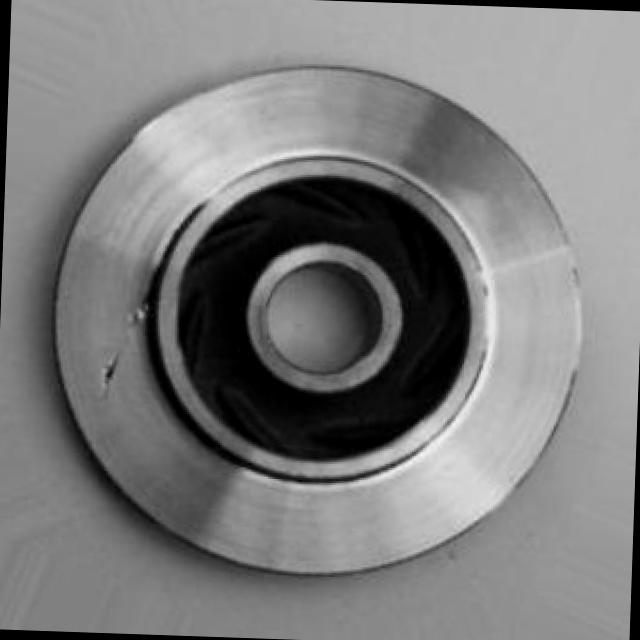Defect: (97, 350, 123, 396)
